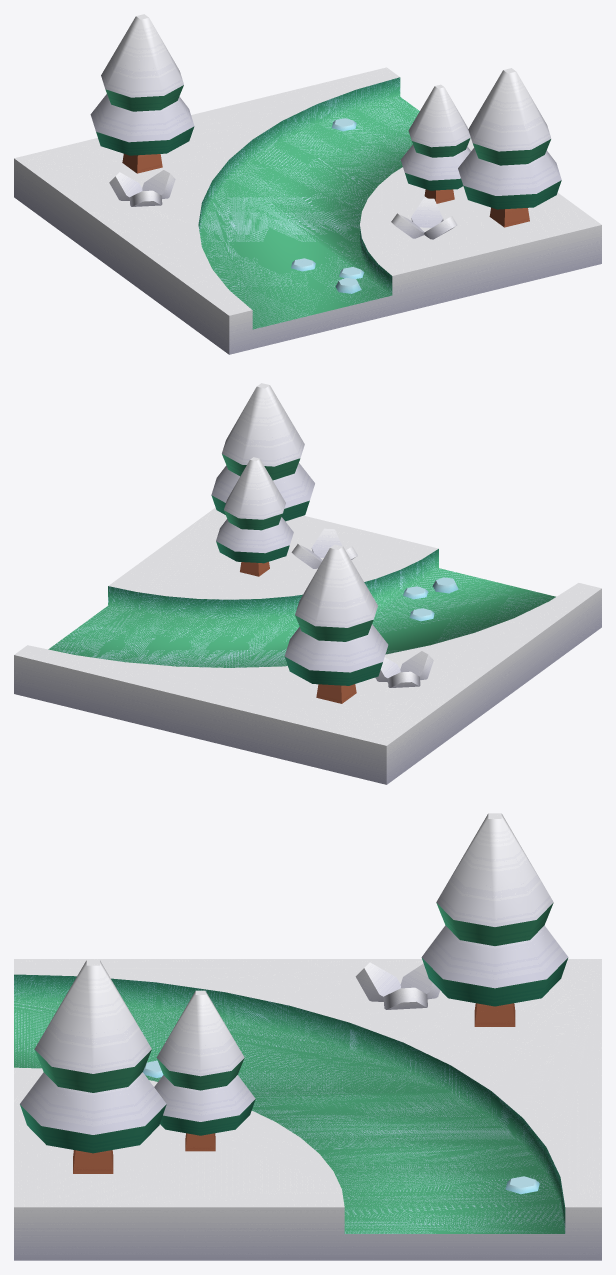
File: snow-tile-corner-large.glb
3 views of the same model, one above another, from view 1: azimuth 30°, elevation 25°; view 2: azimuth 150°, elevation 25°; view 3: azimuth 270°, elevation 25° (orthographic). The views are drawn at different scales.
Parts seen in each view (by area): view 1: snow-tile-corner-large; view 2: snow-tile-corner-large; view 3: snow-tile-corner-large.
Boxes of the visible parts, x1,y1,x2,y2 form: snow-tile-corner-large: (14,14,601,354); snow-tile-corner-large: (14,383,601,784); snow-tile-corner-large: (14,813,601,1260).
Size of the model in its own units: 6 by 2.88 by 6.
1 material, 1 textured.
